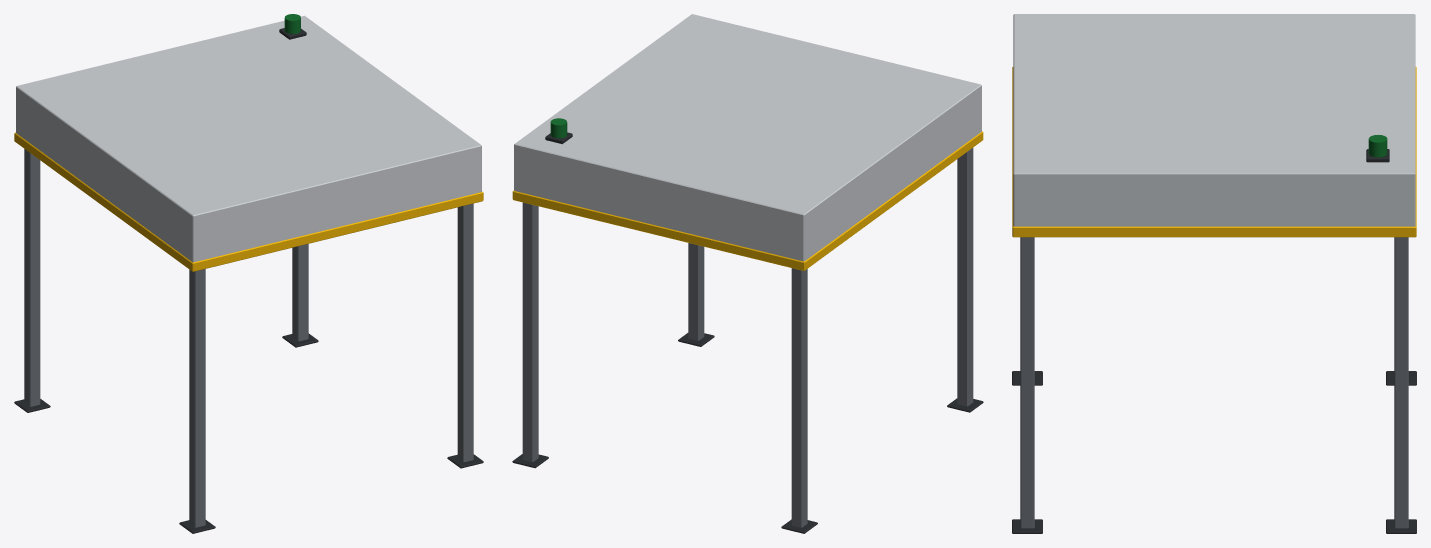
The model's file is emitter_pallet.glb.
3 renders of one model, left to right at view 1: azimuth 30°, elevation 25°; view 2: azimuth 150°, elevation 25°; view 3: azimuth 270°, elevation 25°, orthographic. The views are drawn at different scales.
Parts seen in each view (by area): view 1: Emitter_Static; view 2: Emitter_Static; view 3: Emitter_Static.
Boxes of the visible parts, box(x1,y1,x2,y2) form: Emitter_Static: box(14, 15, 483, 533); Emitter_Static: box(512, 14, 983, 533); Emitter_Static: box(1012, 14, 1416, 533).
Size of the model in its own units: 1.63 by 1.79 by 1.73.
